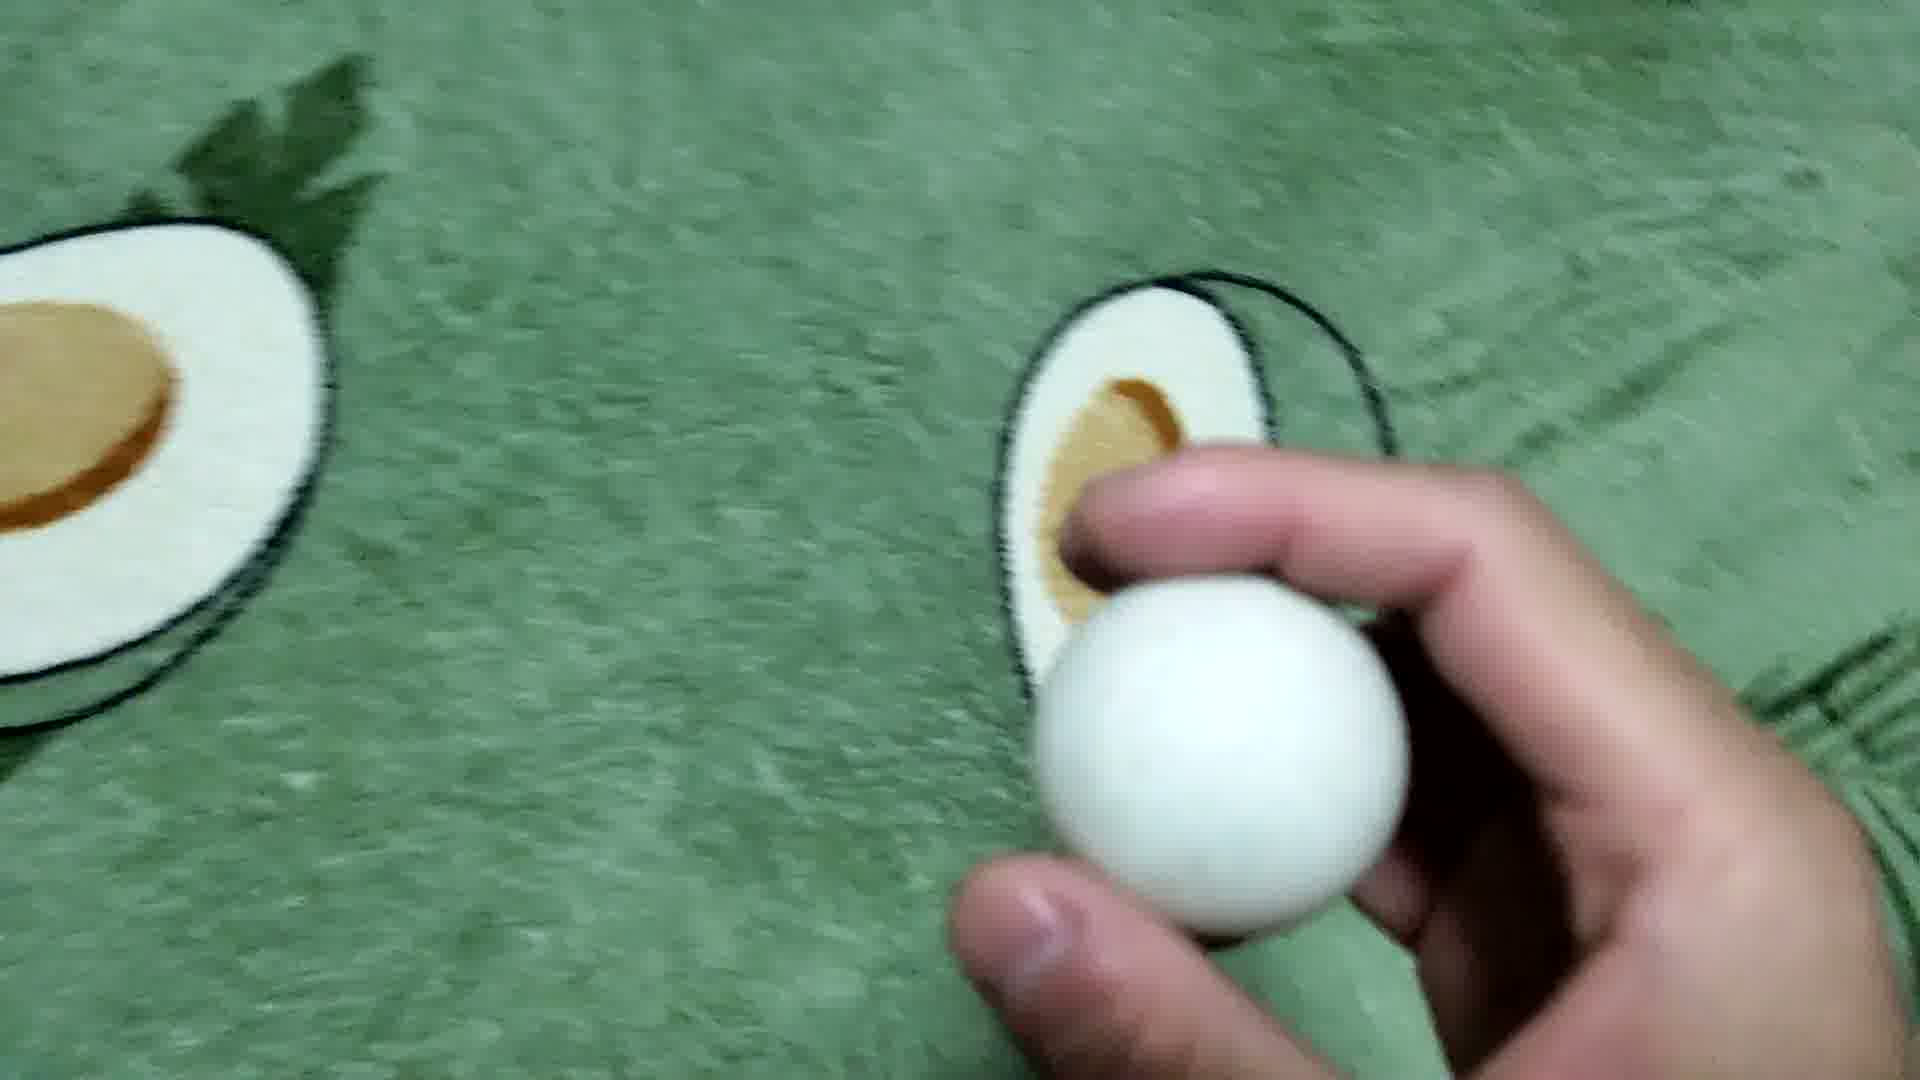Ball: (1027, 574, 1399, 940)
